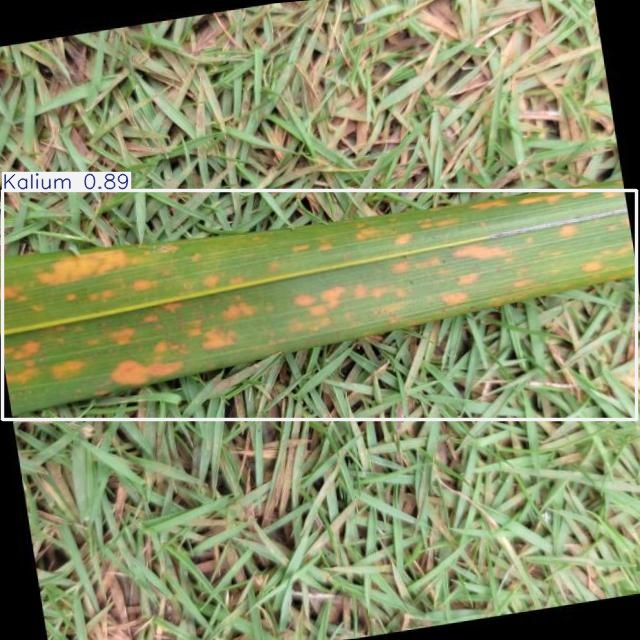Kalium: (2, 190, 637, 419)
